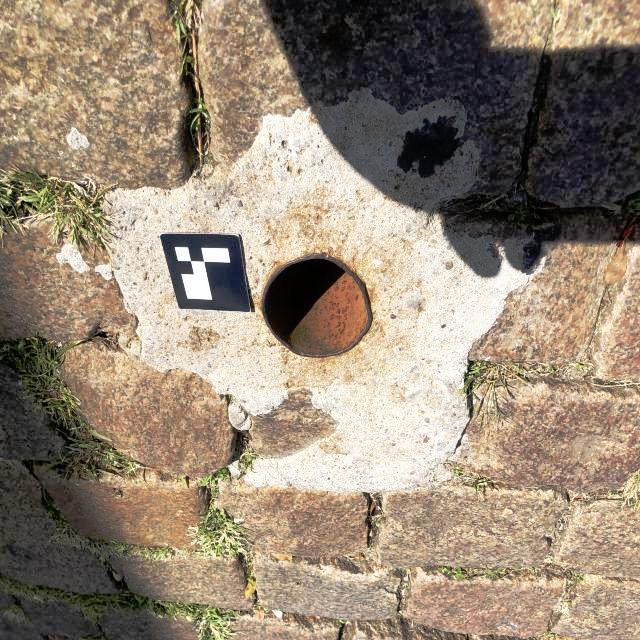Corrosion: (261, 253, 373, 358)
